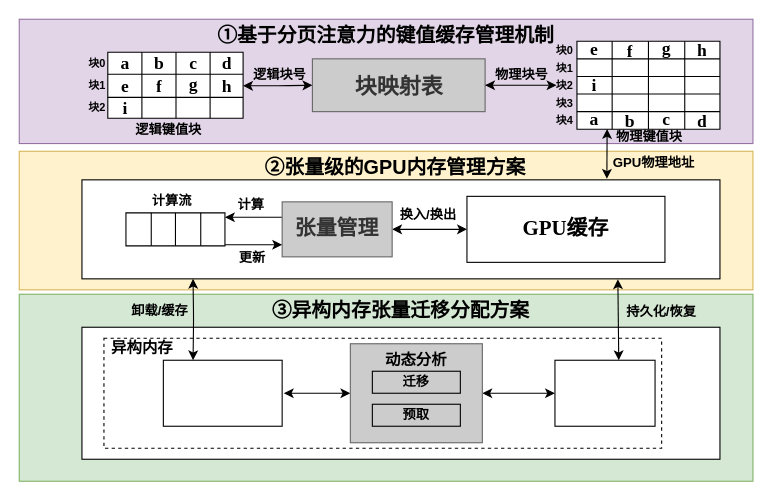
Image size: 772x501. Some labels were removed from this diagram. Here are the shapes that lost their labels. From the top down, the box of each, then its label:
(162, 359, 282, 426): DRAM
(554, 359, 655, 426): NVM
